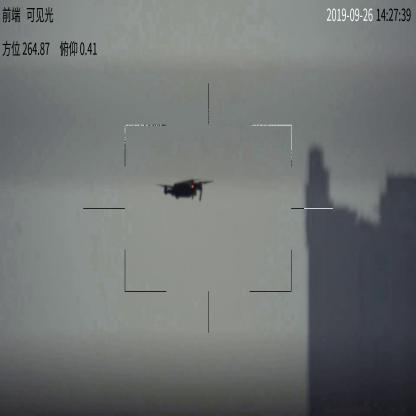uav: (157, 178, 214, 204)
